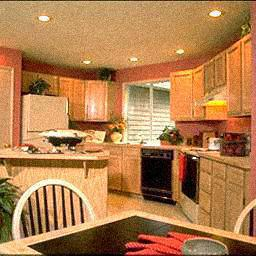Electrodomestico: (141, 148, 174, 200), (179, 150, 197, 216)
